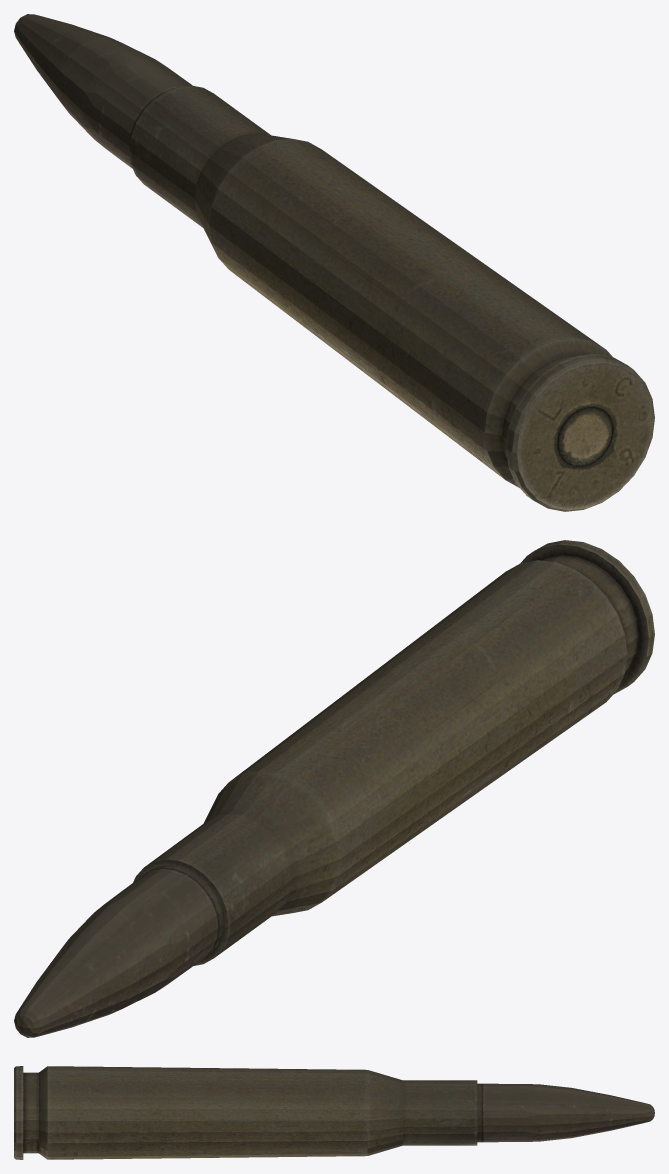
3 views of the same model, one above another, from view 1: azimuth 30°, elevation 25°; view 2: azimuth 150°, elevation 25°; view 3: azimuth 270°, elevation 25° (orthographic). The views are drawn at different scales.
Parts seen in each view (by area): view 1: TW_67dc255ee3028a8b120efc48_PZ_Import; view 2: TW_67dc255ee3028a8b120efc48_PZ_Import; view 3: TW_67dc255ee3028a8b120efc48_PZ_Import.
Part boxes in pixels (x1,y1,x2,y2): TW_67dc255ee3028a8b120efc48_PZ_Import: (14,14,654,511); TW_67dc255ee3028a8b120efc48_PZ_Import: (14,540,654,1037); TW_67dc255ee3028a8b120efc48_PZ_Import: (14,1066,654,1159).
Size of the model in its own units: 0.0117 by 0.08 by 0.0117.
Materials: 1 (1 with a texture image).
